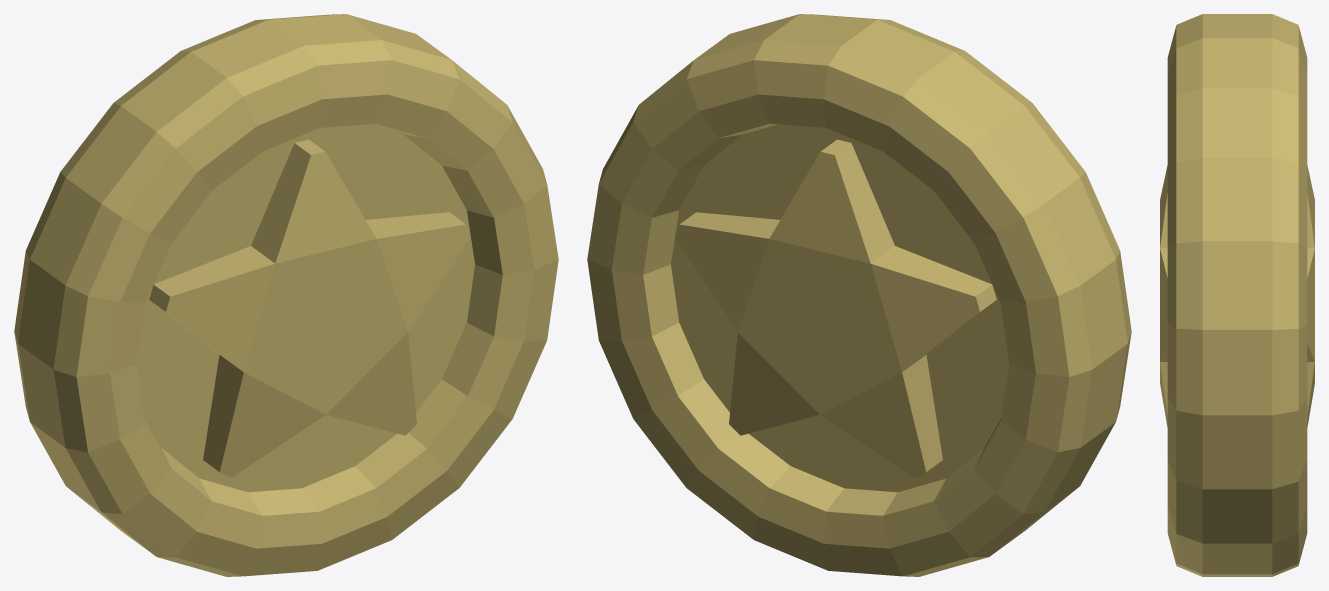
File: SM_Coin_Star.fbx
3 renders of one model, left to right at view 1: azimuth 30°, elevation 25°; view 2: azimuth 150°, elevation 25°; view 3: azimuth 270°, elevation 25°, orthographic. The views are drawn at different scales.
Parts seen in each view (by area): view 1: SM_Coin_Star; view 2: SM_Coin_Star; view 3: SM_Coin_Star.
Boxes of the visible parts, x1,y1,x2,y2 form: SM_Coin_Star: [14, 14, 558, 576]; SM_Coin_Star: [587, 14, 1131, 576]; SM_Coin_Star: [1160, 14, 1314, 576].
Size of the model in its own units: 73.67 by 73.77 by 20.11.
